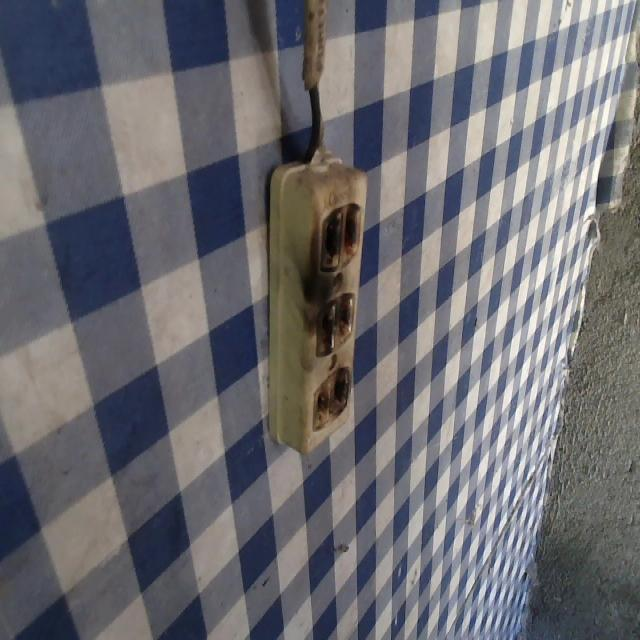-: (316, 202, 365, 270), (314, 288, 357, 355), (311, 367, 348, 424)
